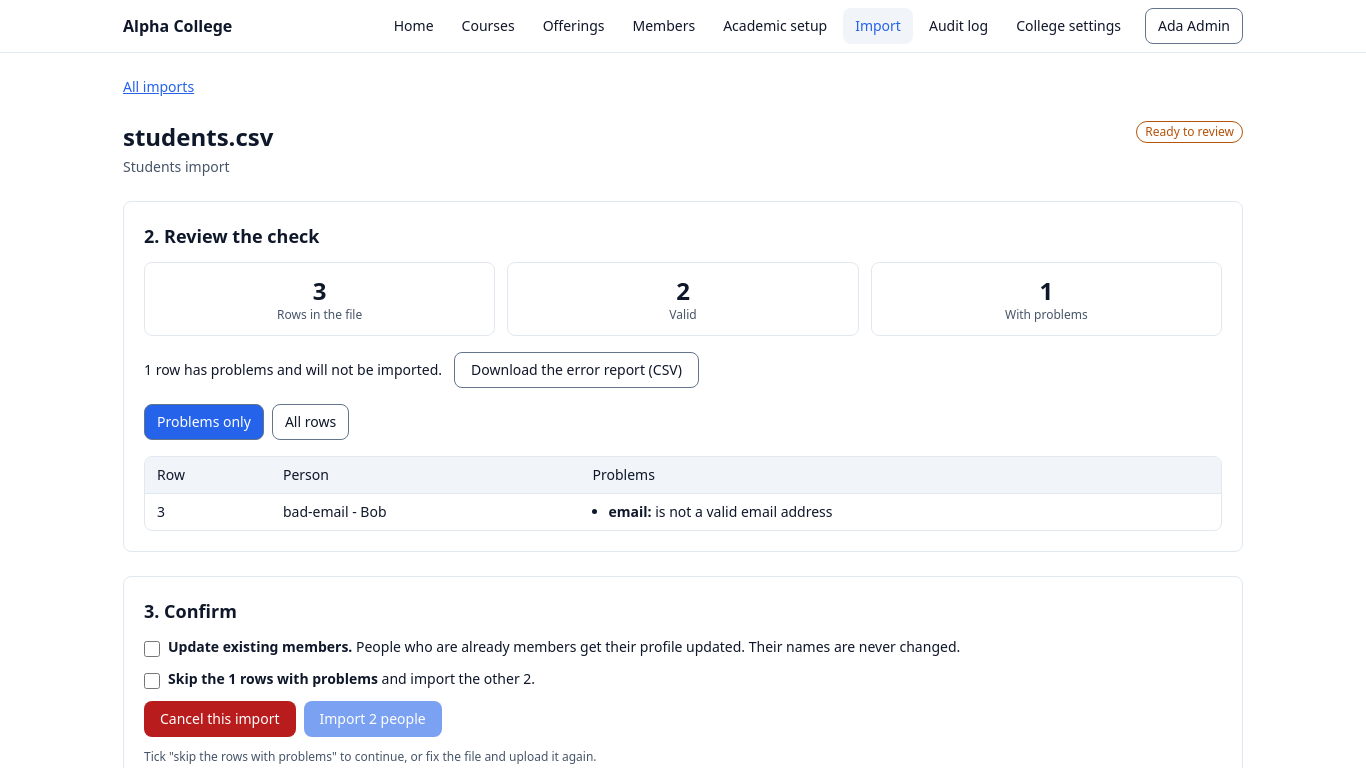
review and confirm › cancelling asks first and names the file
This screenshot has width=1366, height=768.
Click the button "Cancel this import".
click(220, 719)  # box 144,701 -> 296,737
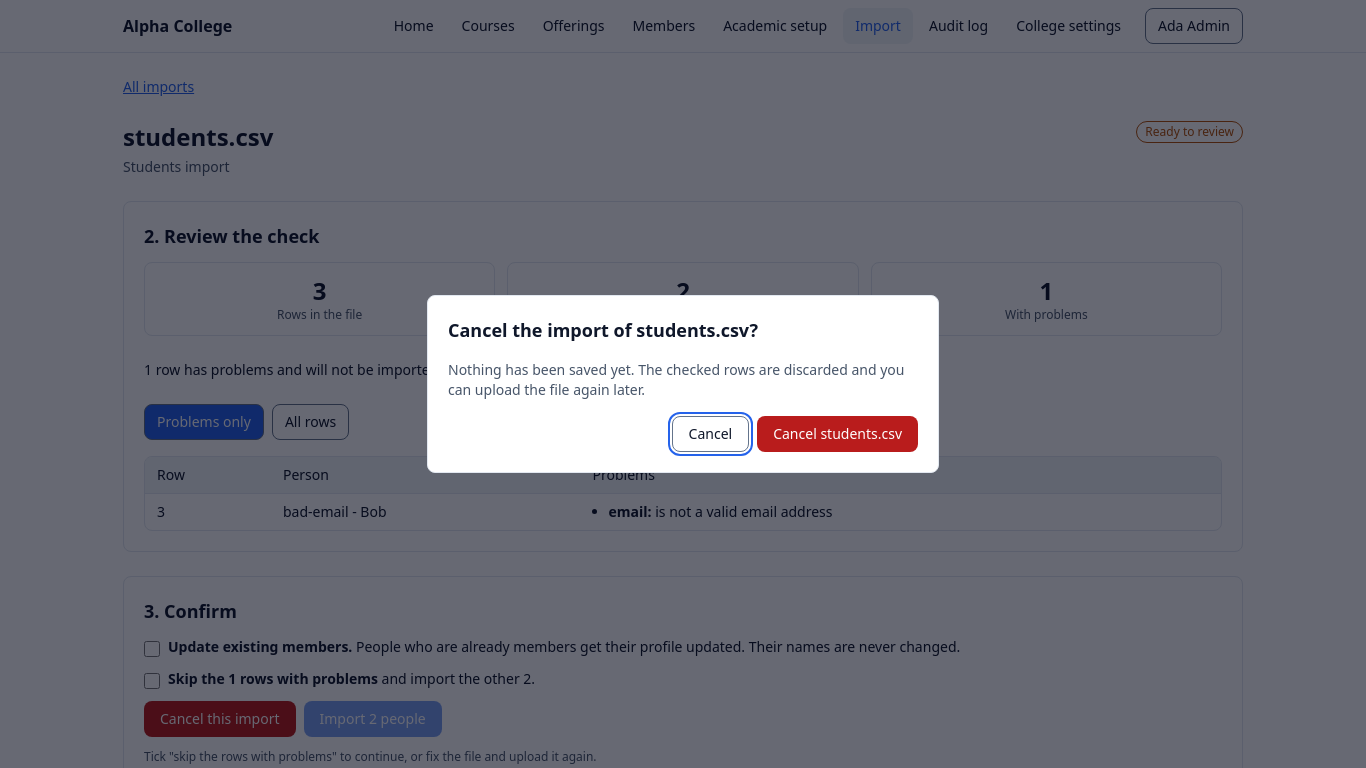
Click the button "Cancel students.csv".
click(838, 434)  # box 757,416 -> 918,452
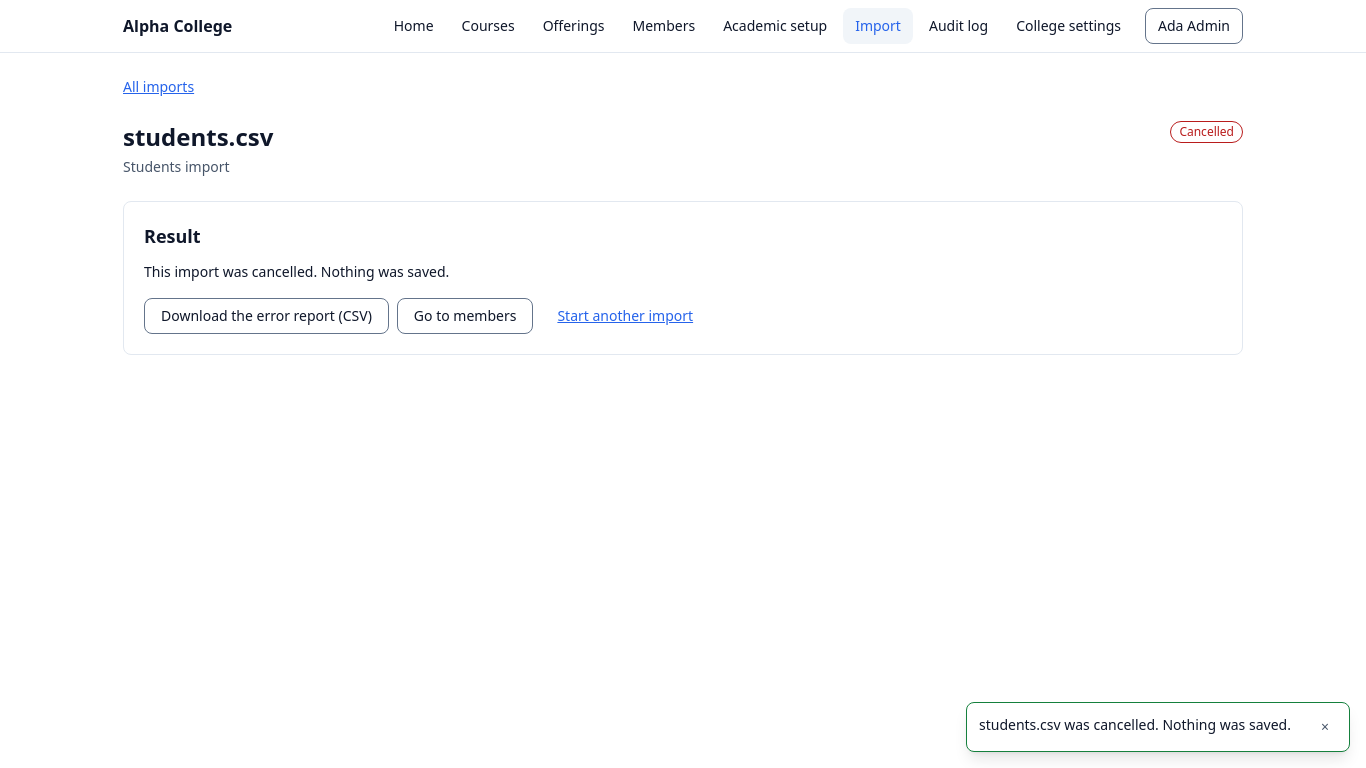
Now the text "This import was cancelled. Nothing was saved." is shown, box 144,262 -> 449,281
